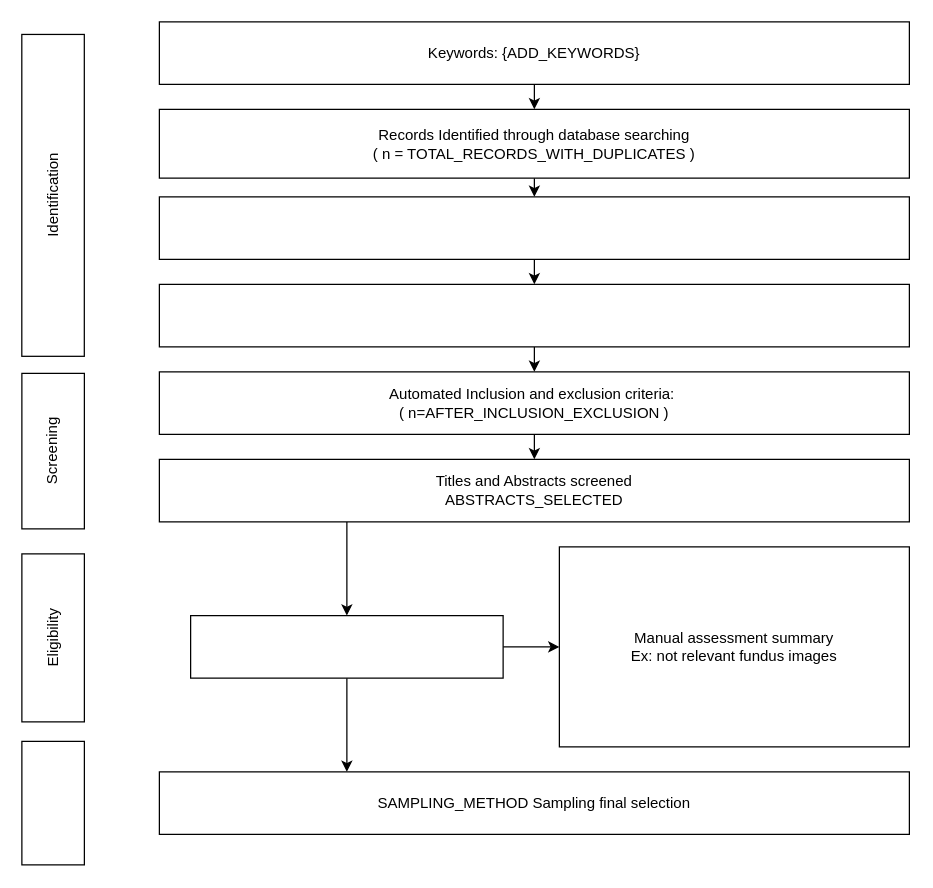
Some shapes in this 933 by 888 pixel diagram are drawn without their labels. The centre of each missing label's shape, as x and y in pixels:
"Full Text Articles Assessed FULL_TEXT_SELECTED" goes at (346,646).
"Inclusion" goes at (52,802).
"Total Records with Duplicates : ( n = TOTAL_RECORDS_WITH_DUPLICATES )" goes at (533,227).
"Total Unique Records : ( n =TOTAL_RECORDS )" goes at (533,315).
